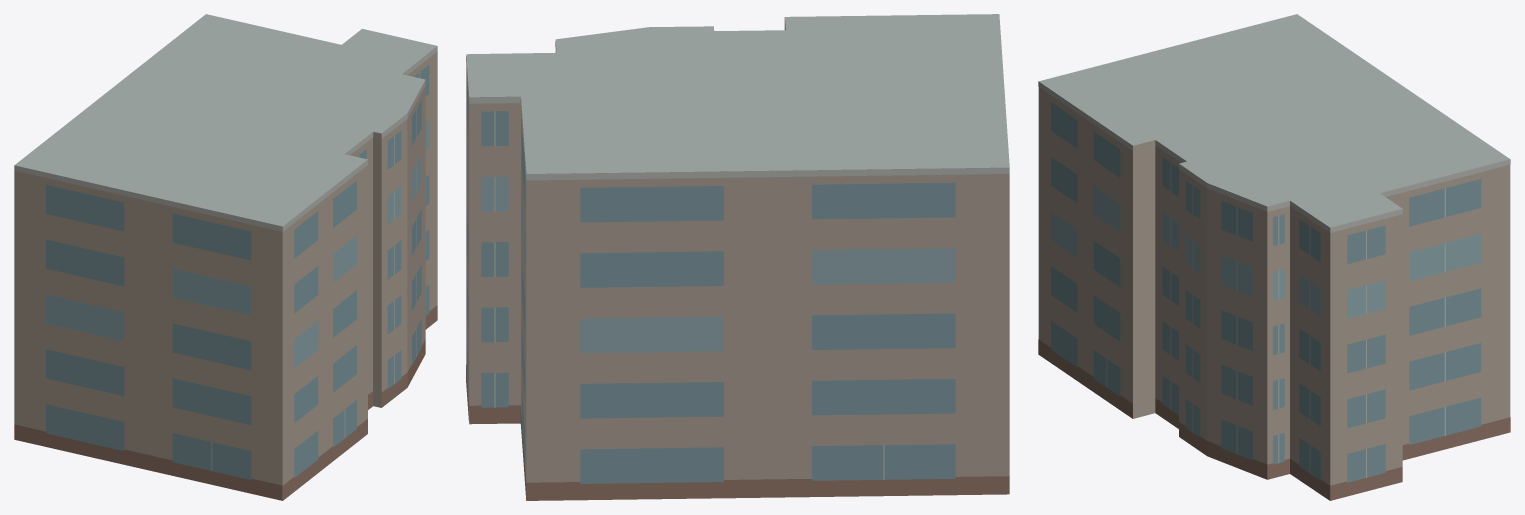
Rendered from survey-upis-32927972.glb.
3 views of the same model, side by side, from view 1: azimuth 30°, elevation 25°; view 2: azimuth 150°, elevation 25°; view 3: azimuth 270°, elevation 25° (orthographic). The views are drawn at different scales.
Parts seen in each view (by area): view 1: survey-upis-32927972.tmp; view 2: survey-upis-32927972.tmp; view 3: survey-upis-32927972.tmp.
Boxes of the visible parts, bbox=[...] form: survey-upis-32927972.tmp: bbox=[14, 14, 437, 500]; survey-upis-32927972.tmp: bbox=[466, 14, 1009, 500]; survey-upis-32927972.tmp: bbox=[1038, 14, 1510, 500].
Size of the model in its own units: 20.98 by 12.5 by 19.58.
